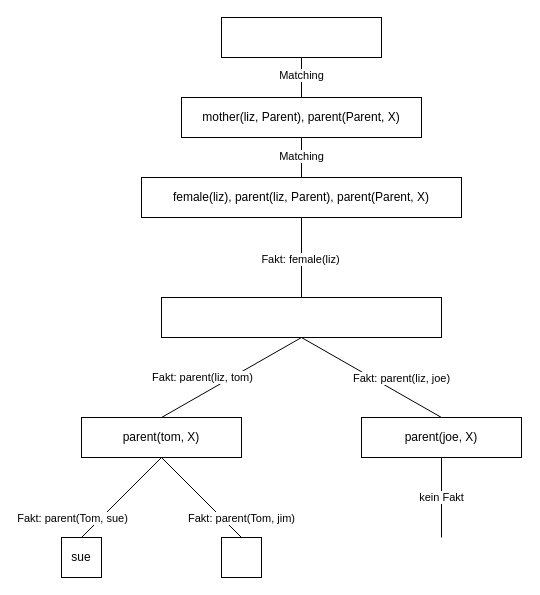
This 540x595 diagram has some shape labels left out. Each missing label, with the box of its shape:
grandmother(liz, X): (220, 16, 382, 58)
jim: (220, 536, 262, 578)
parent(liz, Parent), parent(Parent, X): (160, 296, 442, 338)
